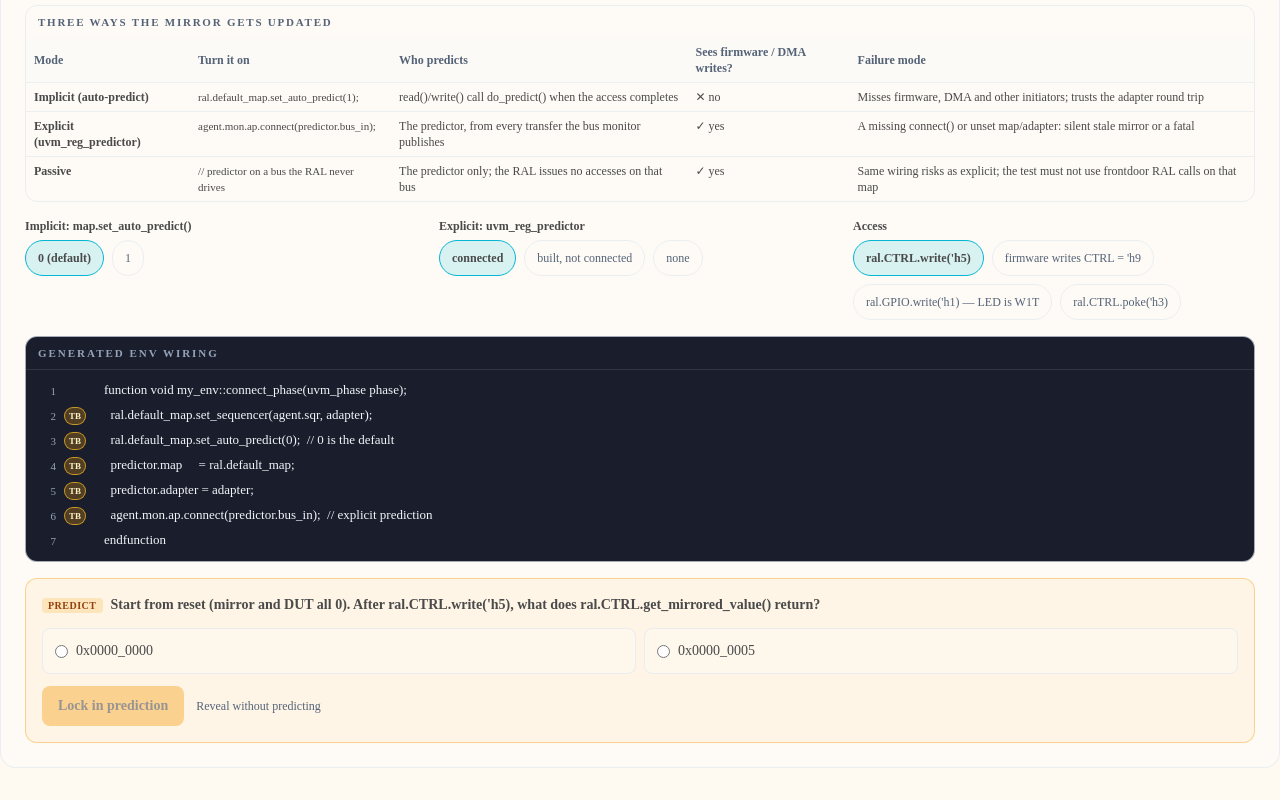
RALPredictorVisualizer (model: src/lib/ral-model.ts predictionPath) › steps through the path with the keyboard
(page scrolled)
Click the radio button labelled "0x0000_0005".
click(664, 652)  # box x1=657 y1=645 x2=670 y2=658
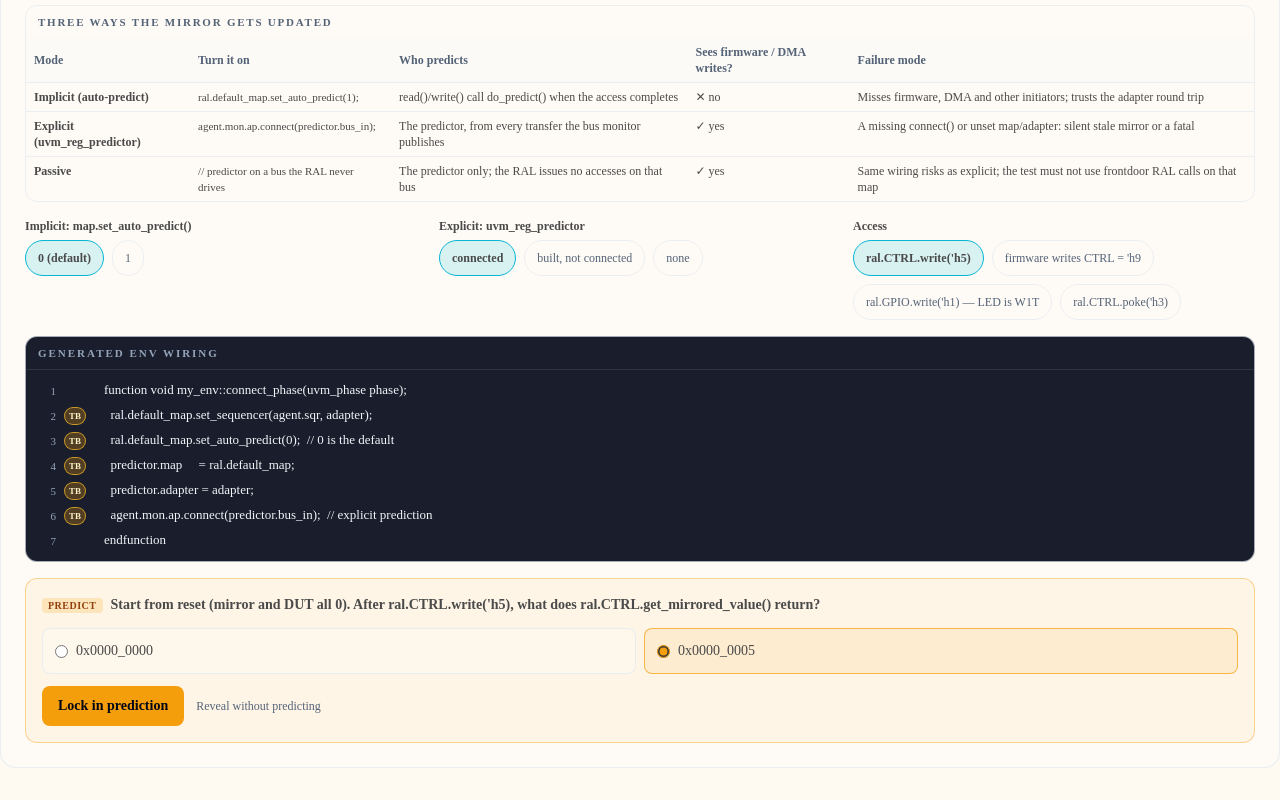
Click the button "Lock in prediction".
click(113, 706)  # box x1=42 y1=686 x2=184 y2=726
(page scrolled)
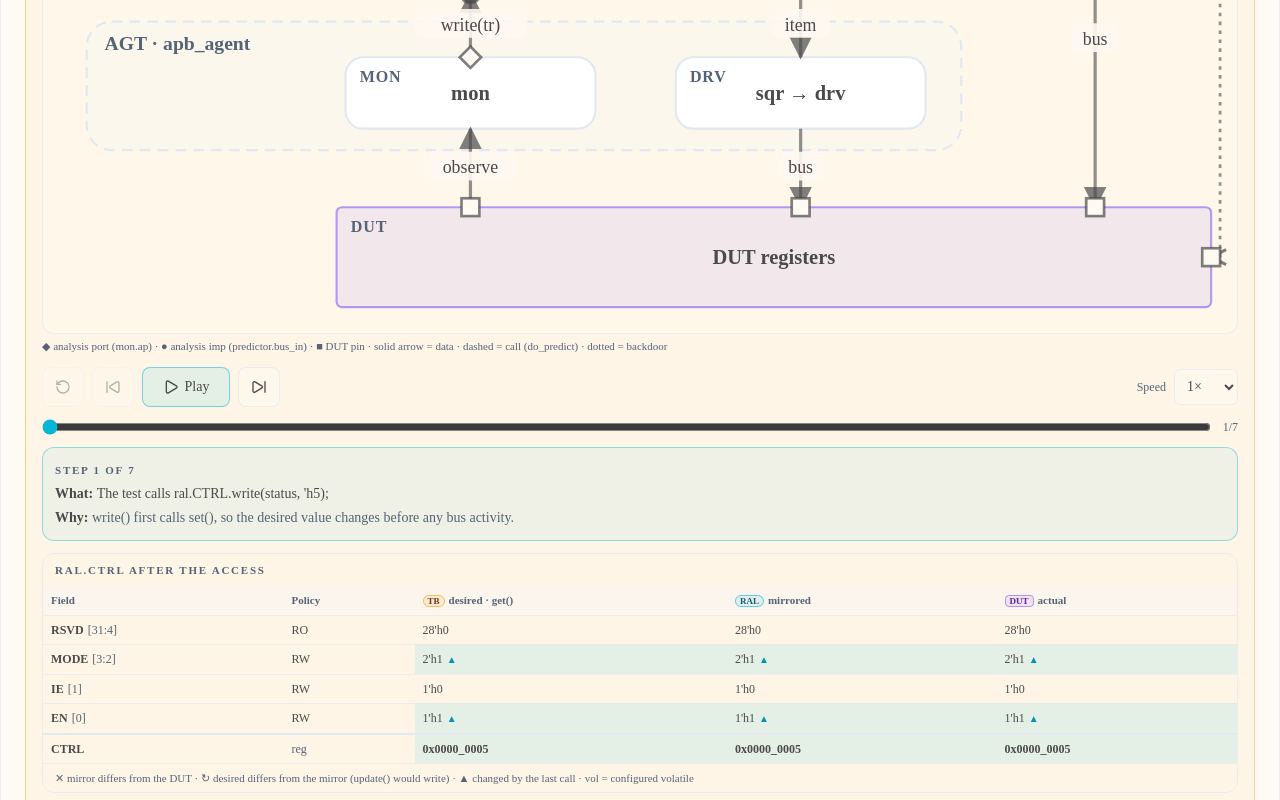
Press ArrowRight in the element named "Path step playback controls", box x1=42 y1=366 x2=1238 y2=434
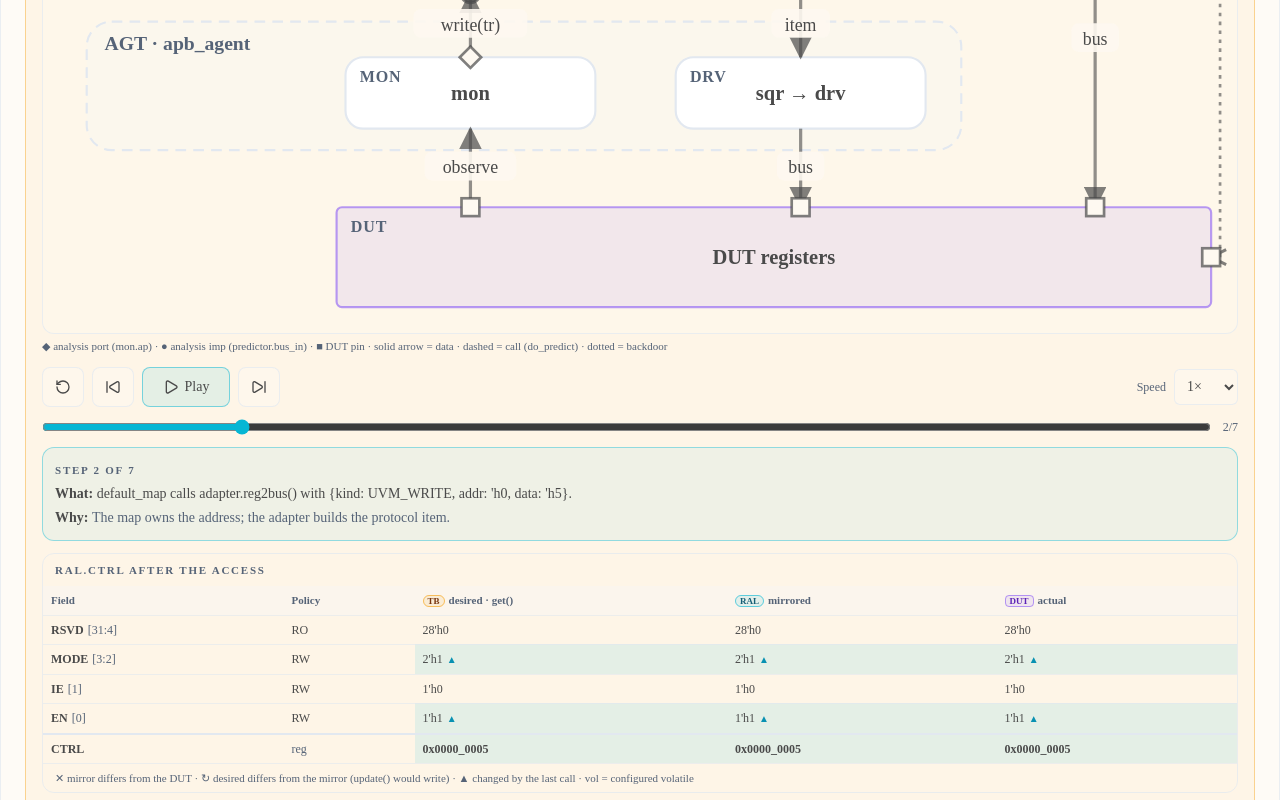
Check: the text "Step 2 of 7" is shown, box x1=55 y1=464 x2=135 y2=476
Check: the text "adapter.reg2bus() with {kind: UVM_WRITE" is shown, box x1=97 y1=486 x2=572 y2=500
Press Home in the element named "Path step playback controls", box x1=42 y1=366 x2=1238 y2=434
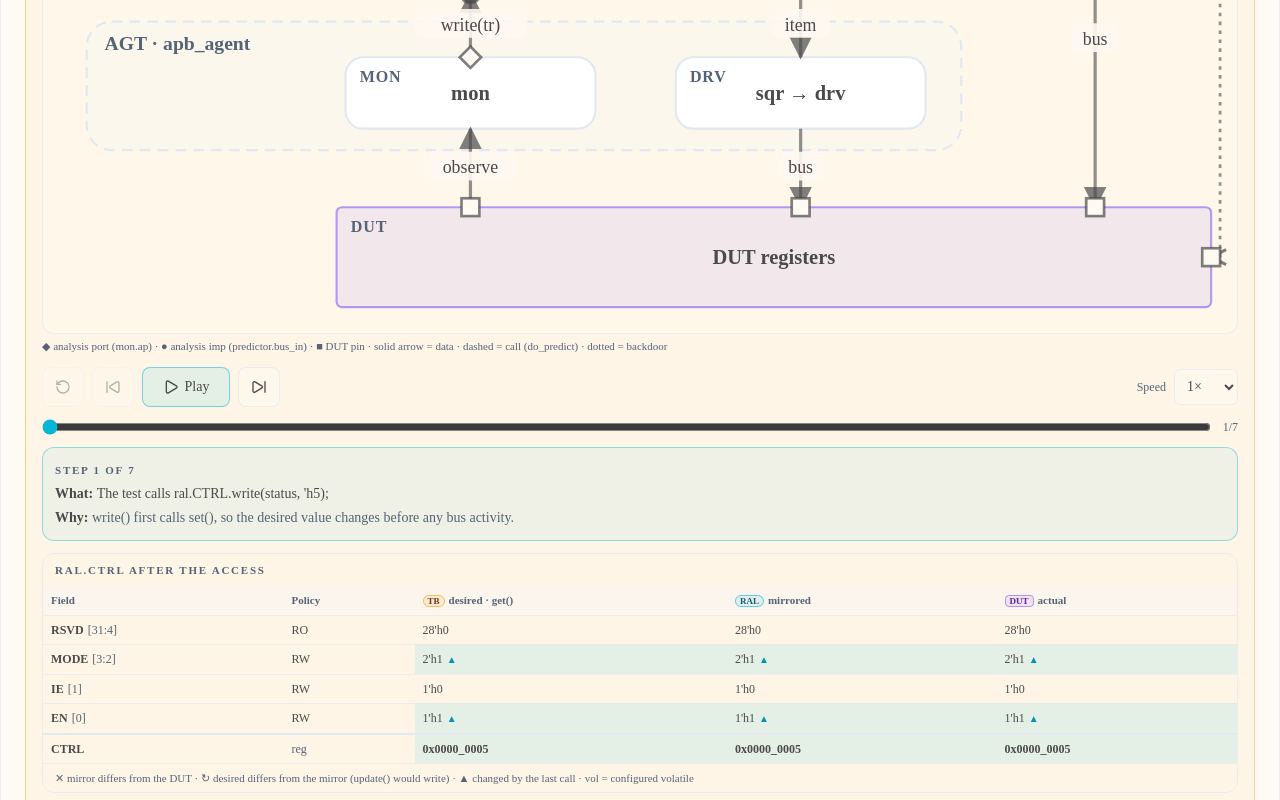
Check: the text "Step 1 of 7" is shown, box x1=55 y1=464 x2=135 y2=476
